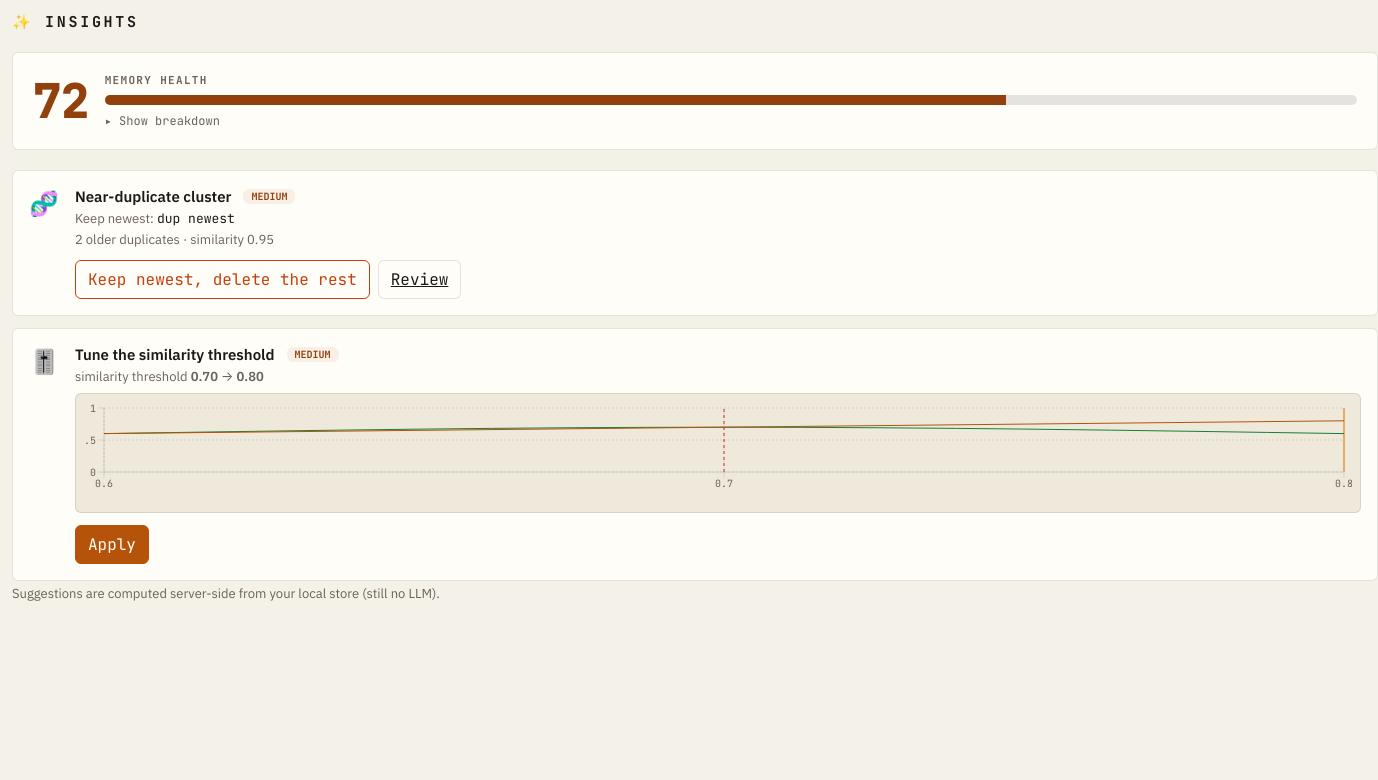
Test: Insights page › near-dup card: optimistically removed after delete even if the refetch still returns it
Note: two-click confirm
Step 1. Click the button "Keep newest, delete the rest" → x=222, y=280, box [75,260,370,299]
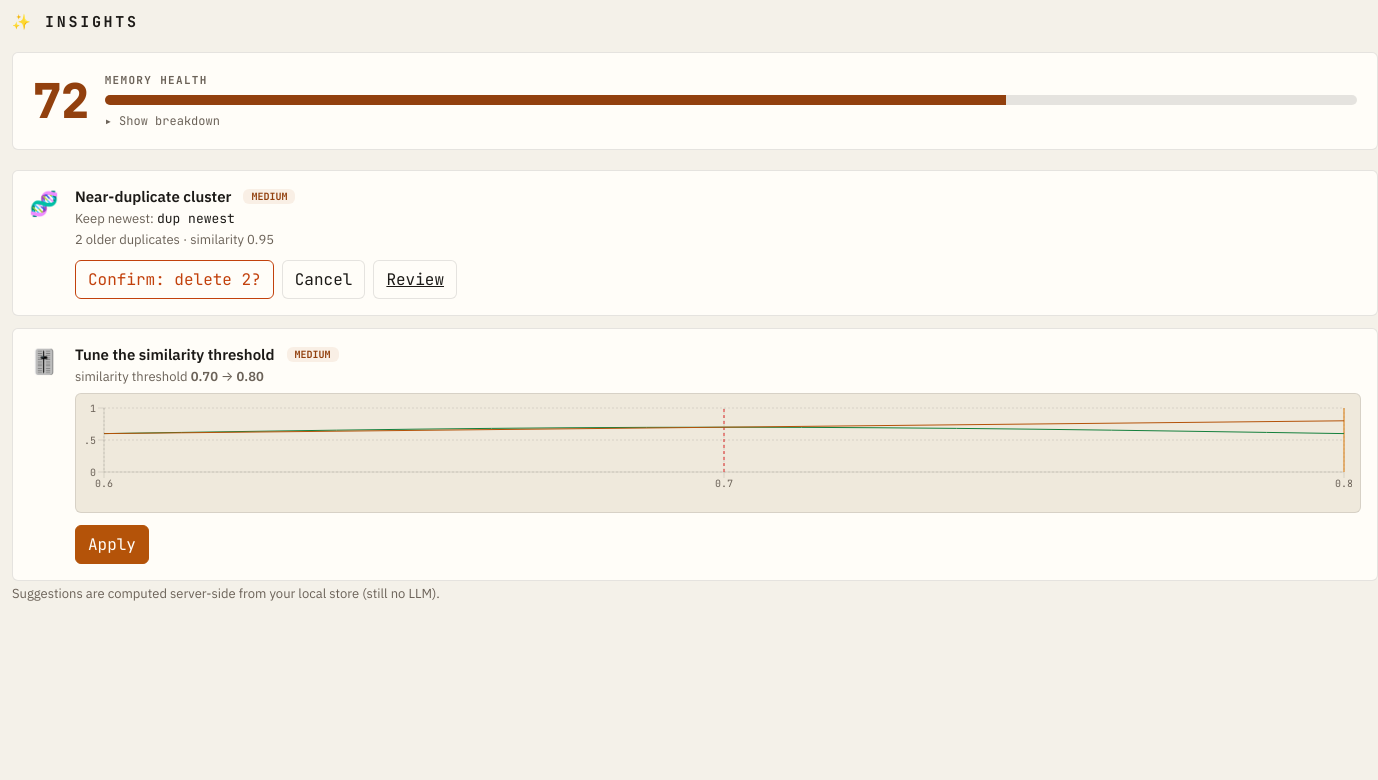
Step 2. Click the button "Confirm: delete 2?" → x=174, y=280, box [75,260,274,299]
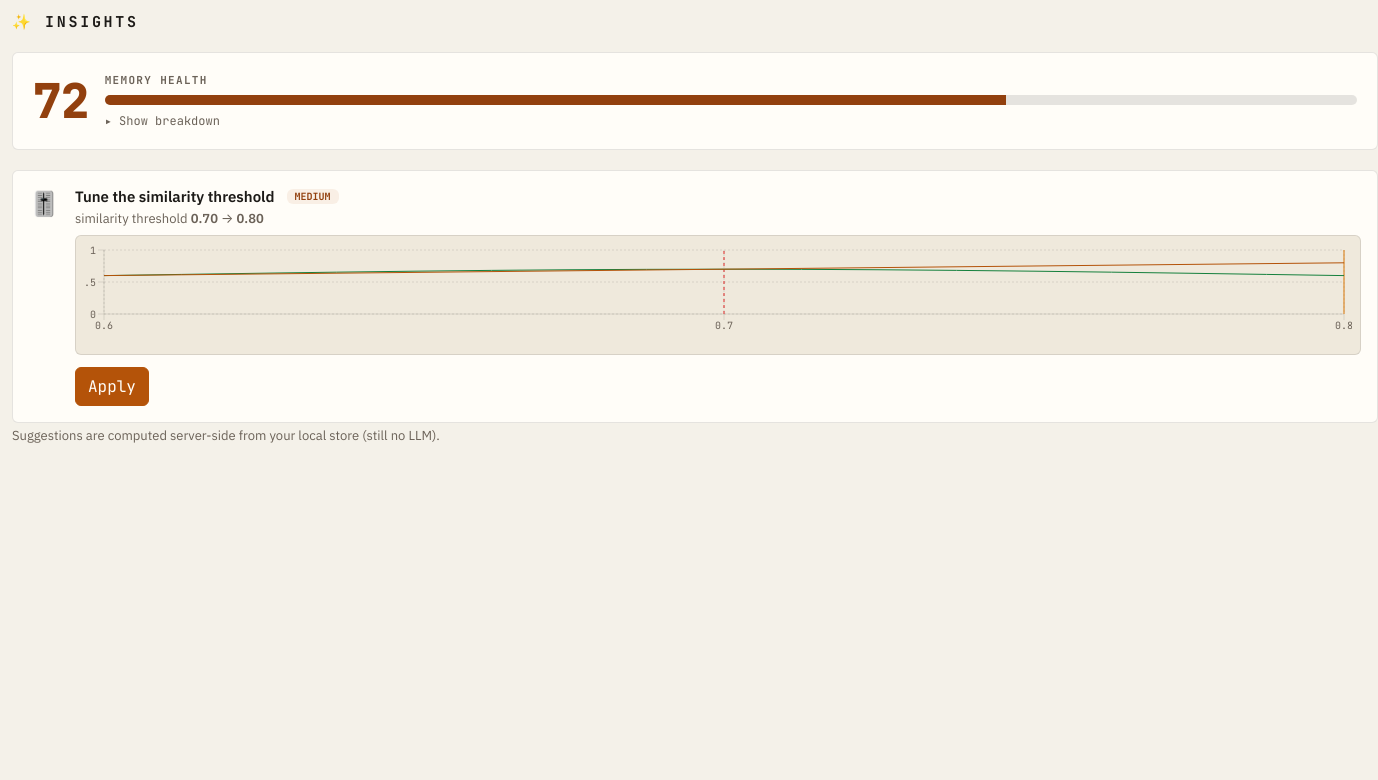
Check: the heading "Near-duplicate cluster" is gone
